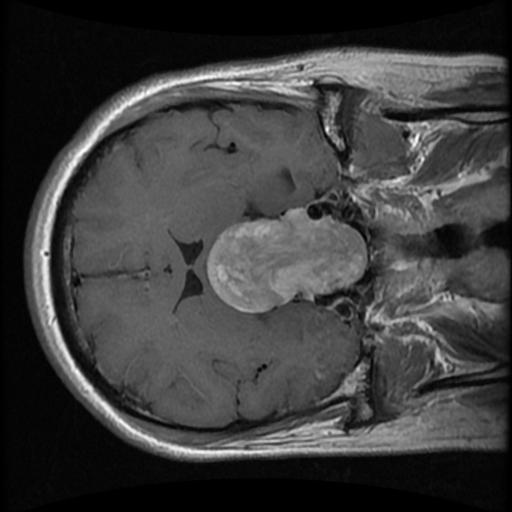pituitary tumour: (207, 211, 363, 311)
